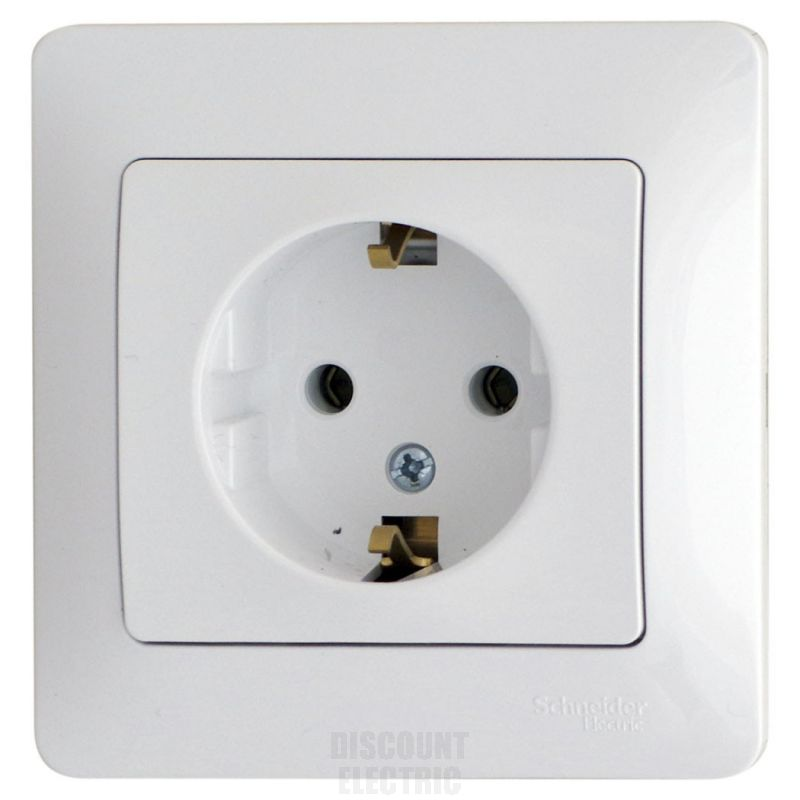raccoon: (192, 210, 555, 593)
